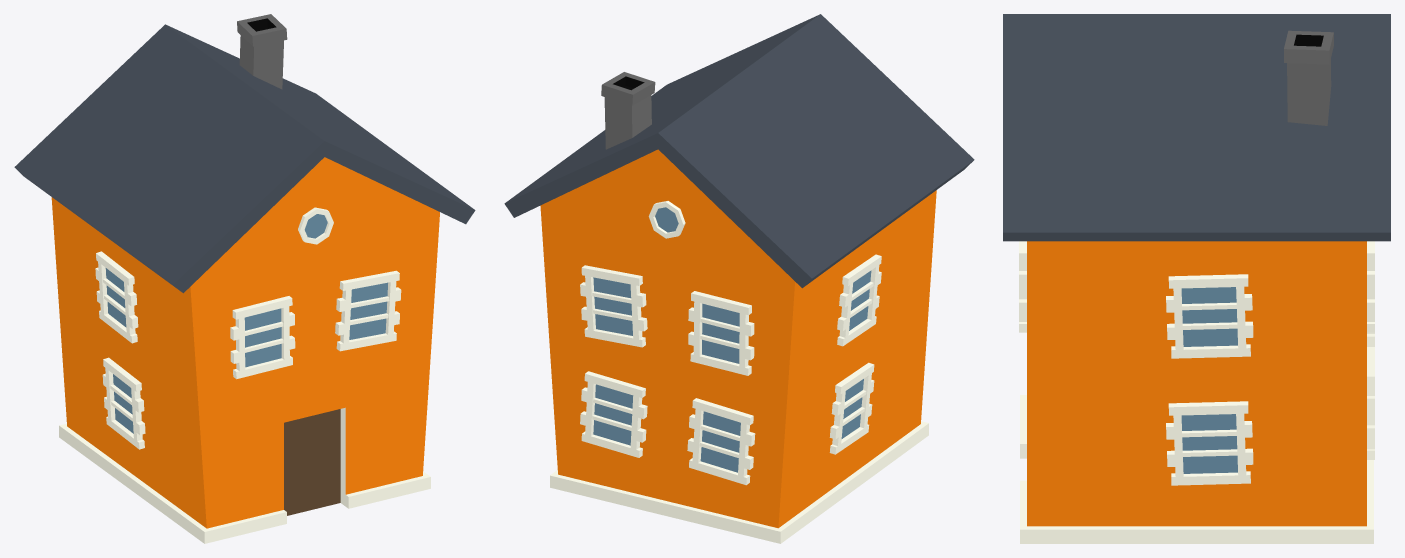
File: house5.gltf
3 views of the same model, side by side, from view 1: azimuth 30°, elevation 25°; view 2: azimuth 150°, elevation 25°; view 3: azimuth 270°, elevation 25° (orthographic). The views are drawn at different scales.
Parts seen in each view (by area): view 1: h2.004; view 2: h2.004; view 3: h2.004.
Boxes of the visible parts, left/top/right/bottom form: h2.004: left=14, top=14, right=475, bottom=543; h2.004: left=504, top=14, right=974, bottom=543; h2.004: left=1003, top=14, right=1390, bottom=543.
Size of the model in its own units: 7.12 by 8.78 by 6.51.
1 material, 1 textured.
